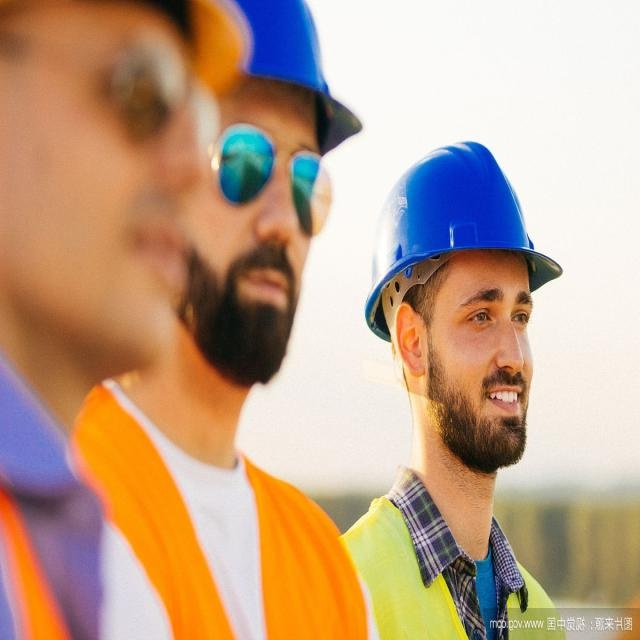Con_Casco: (364, 141, 555, 468)
